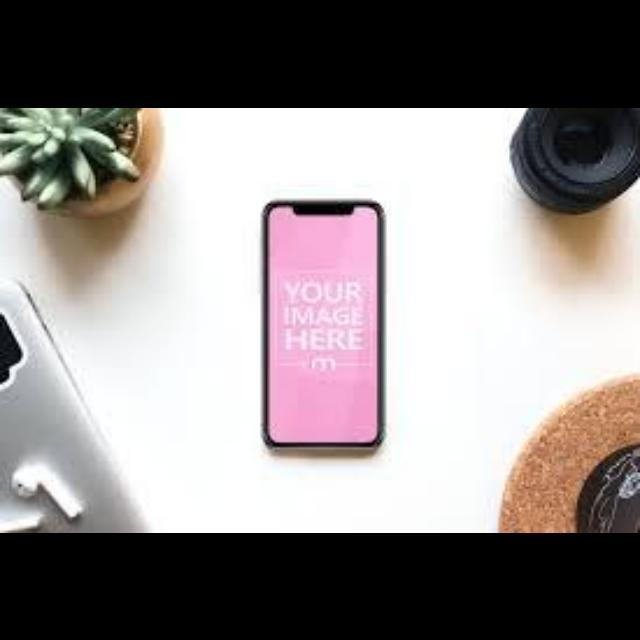Phone: (260, 196, 386, 449)
